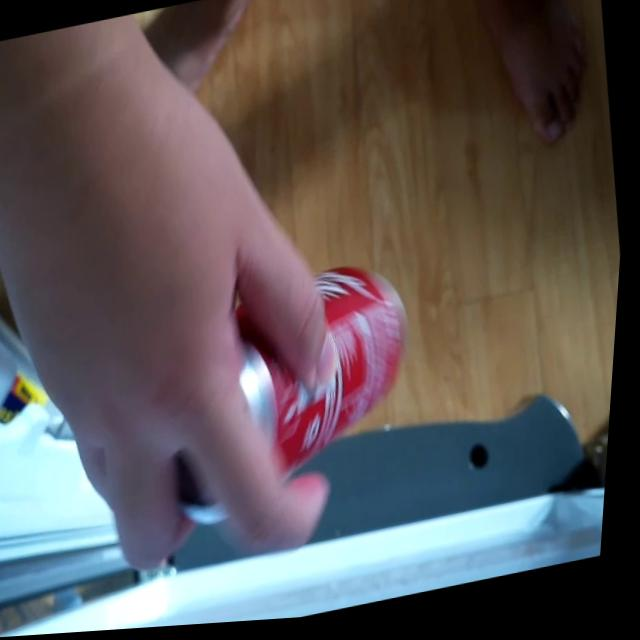coke: (157, 250, 445, 537)
